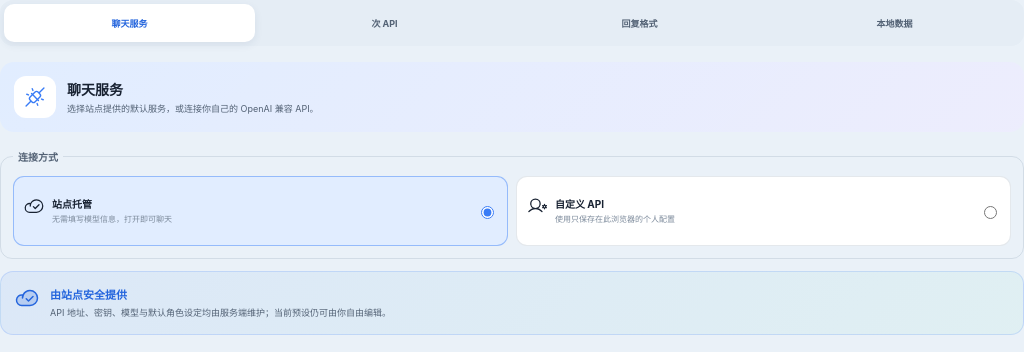
Test case: SillyTavern settings panel › hides all provider configuration in managed mode and offers an explicit custom mode switch
The image size is (1024, 352).
Expected: the text "由站点安全提供" is shown, [50,288,127,302]
What coordinates should you click on to do the following:
click the radio button labelled "自定义 API 使用只保存在此浏览器的个人配置"
I would click on:
 (990, 212)
Its box is [984,206,997,219].
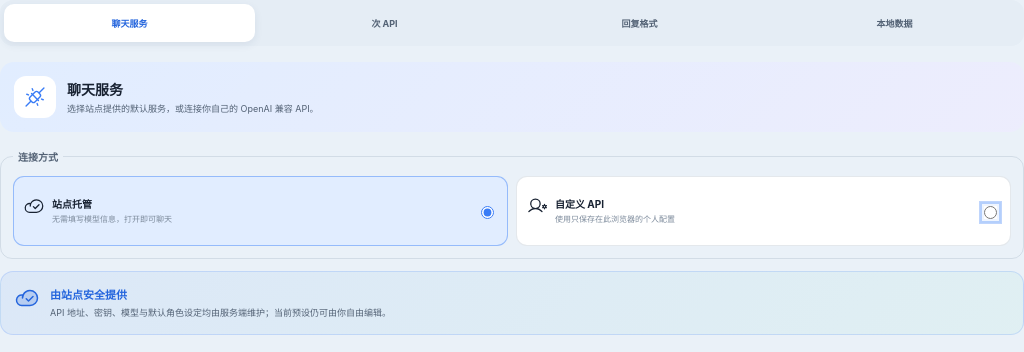
What coordinates should you click on to do the following:
click the button "次 API"
I would click on:
 (384, 23)
Its box is [259,4,510,42].
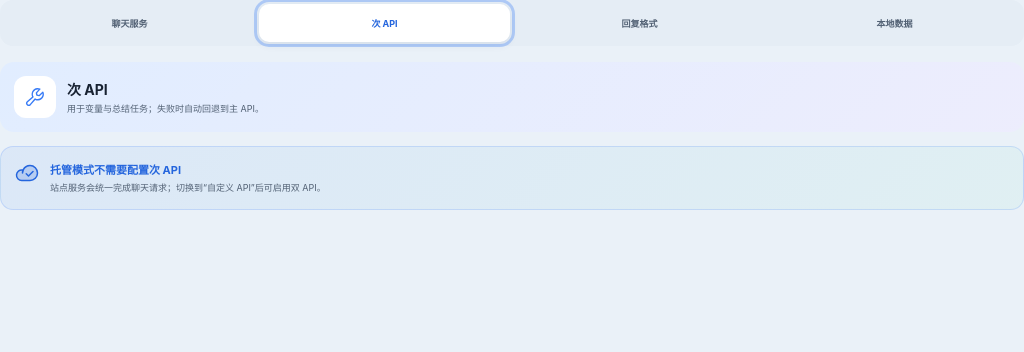
Result: the text "托管模式不需要配置次 API" is shown at [50,163,181,177]
